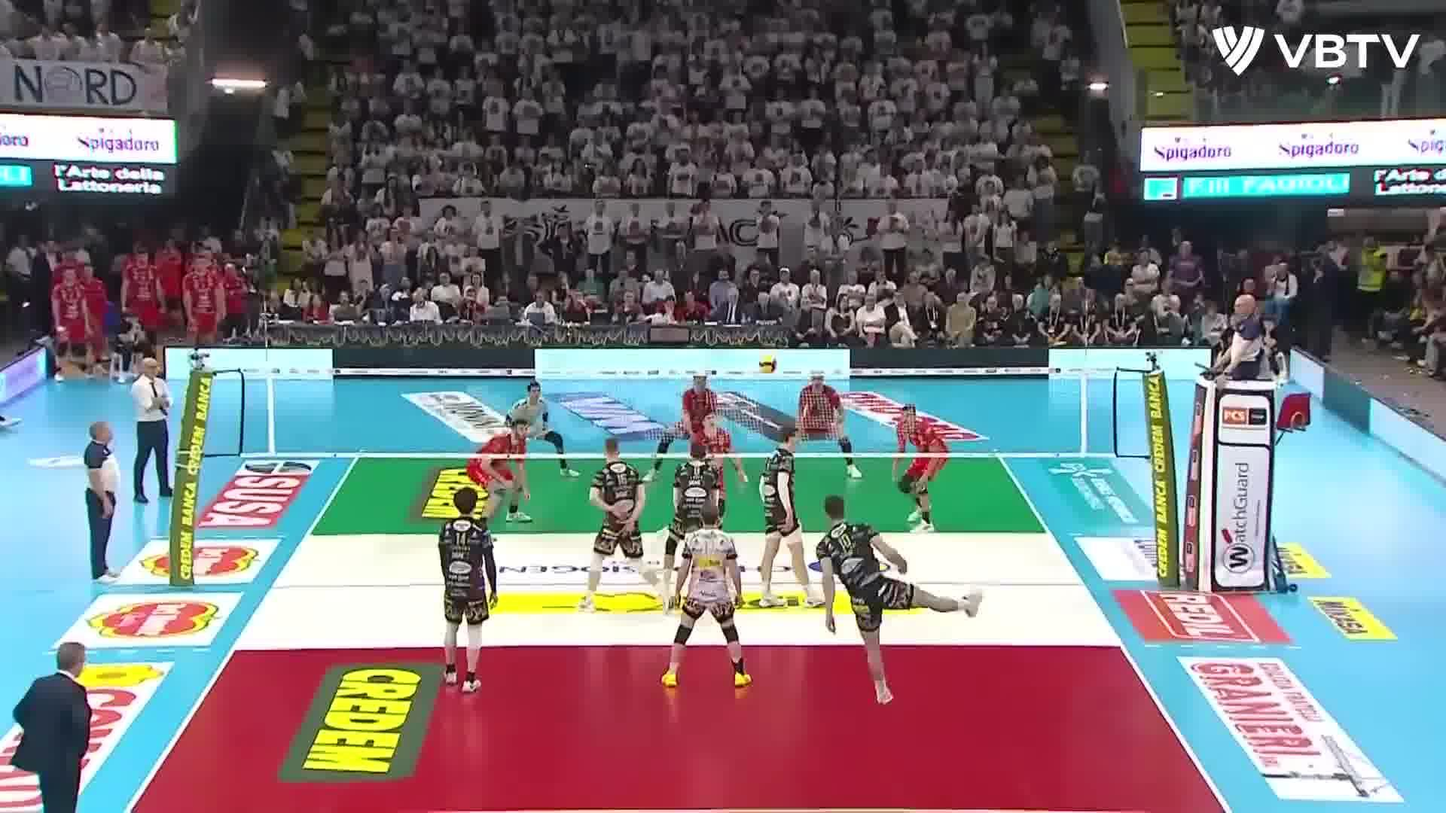balls: (756, 353, 781, 376)
